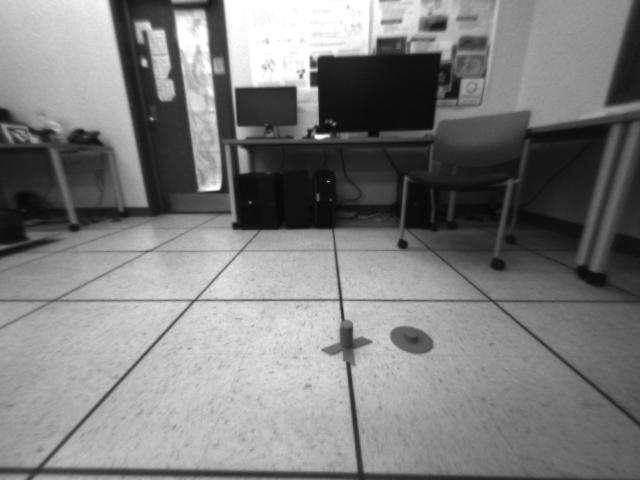X: (320, 320, 373, 365)
